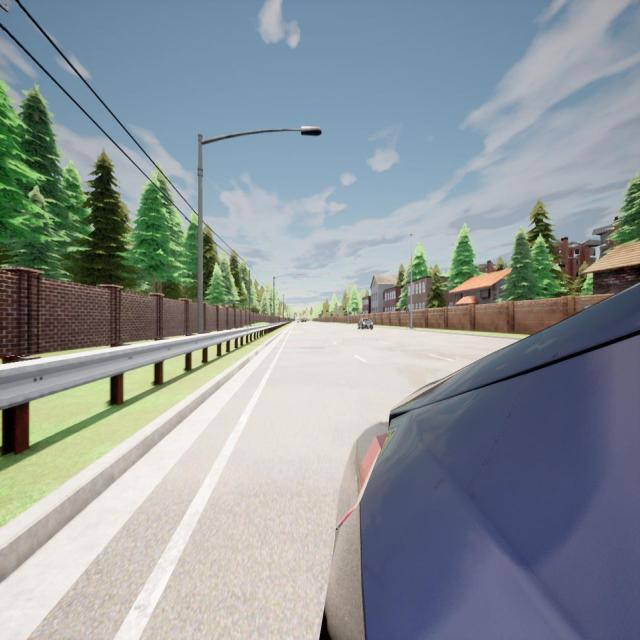Vehicle: (326, 284, 640, 637), (358, 318, 373, 330), (301, 318, 307, 322), (297, 320, 300, 323)
